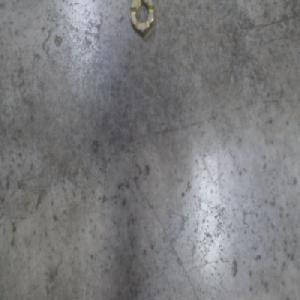Nut: (129, 0, 155, 37)
